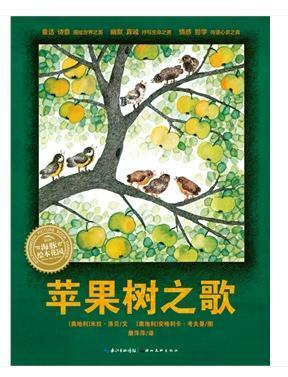apple: (191, 233, 217, 252)
